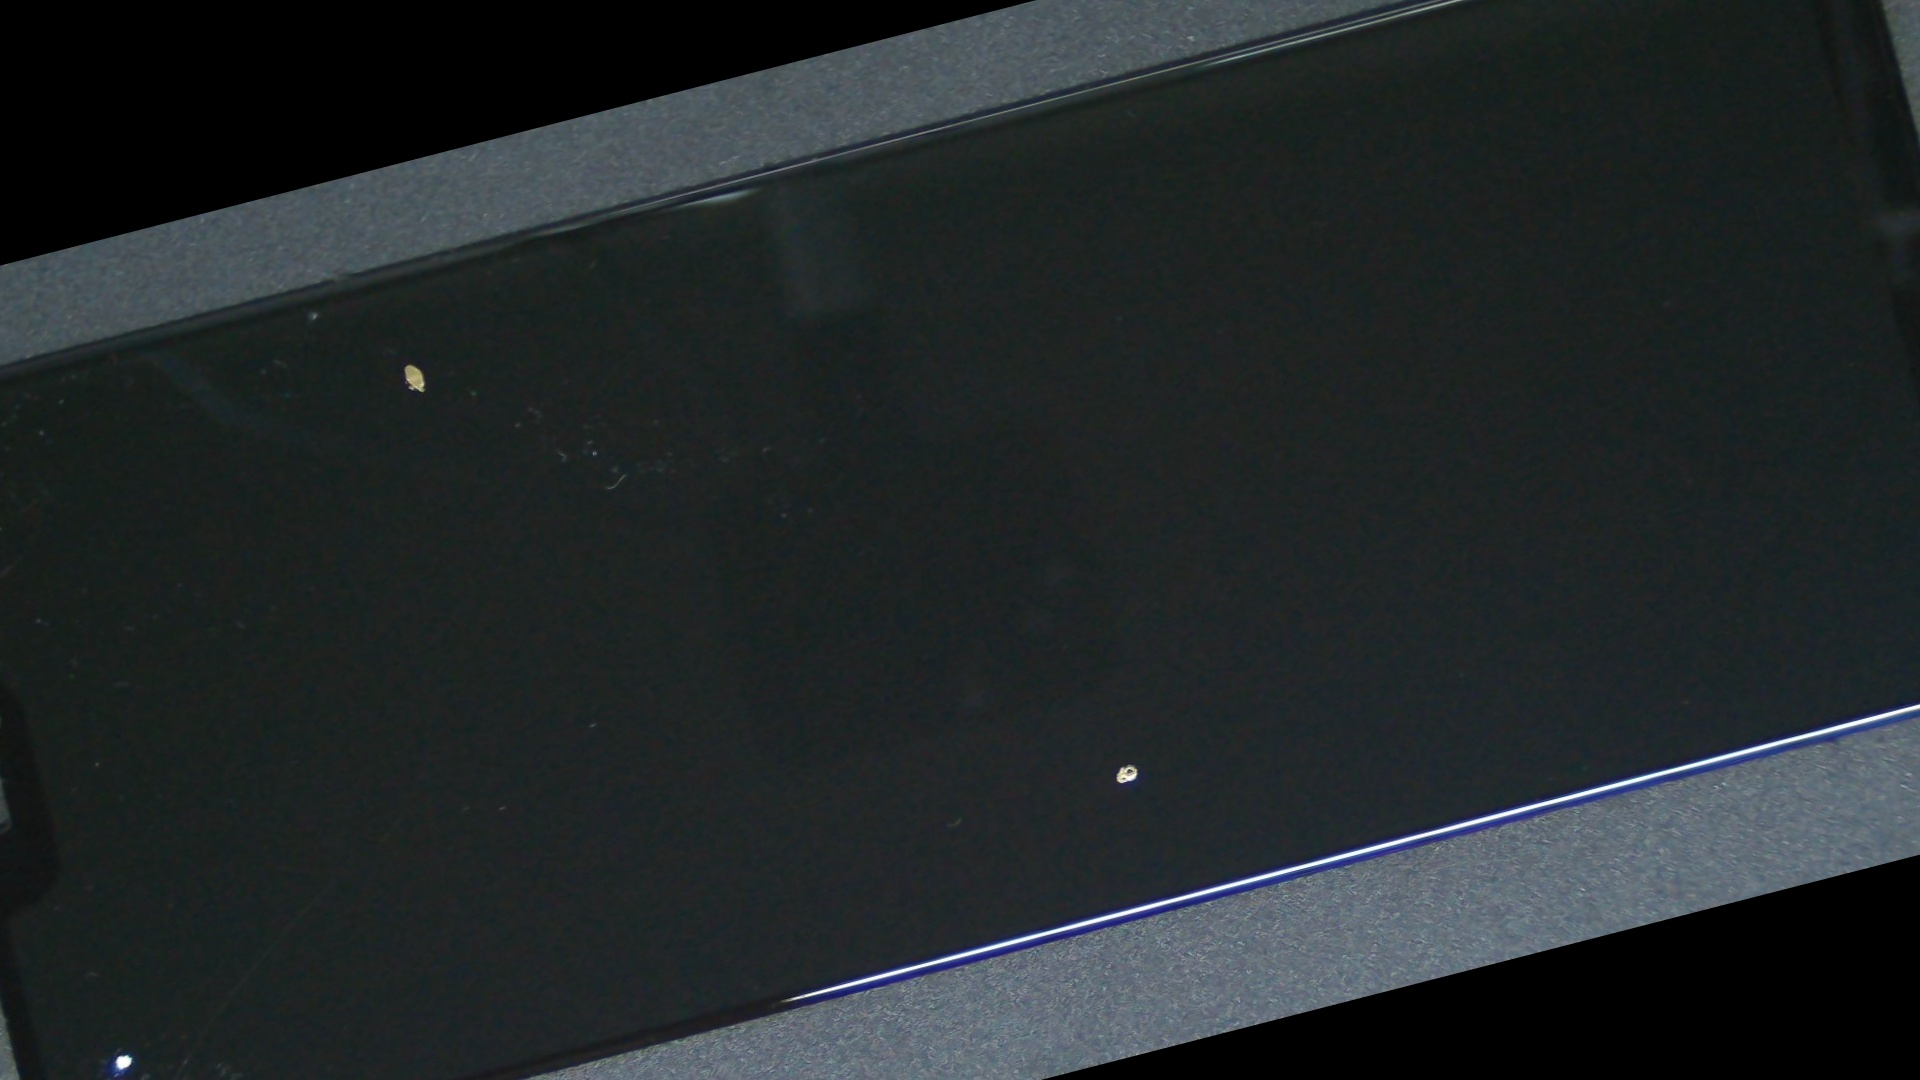oil: (426, 243, 1789, 1080), (69, 187, 745, 537), (0, 644, 273, 1080)
